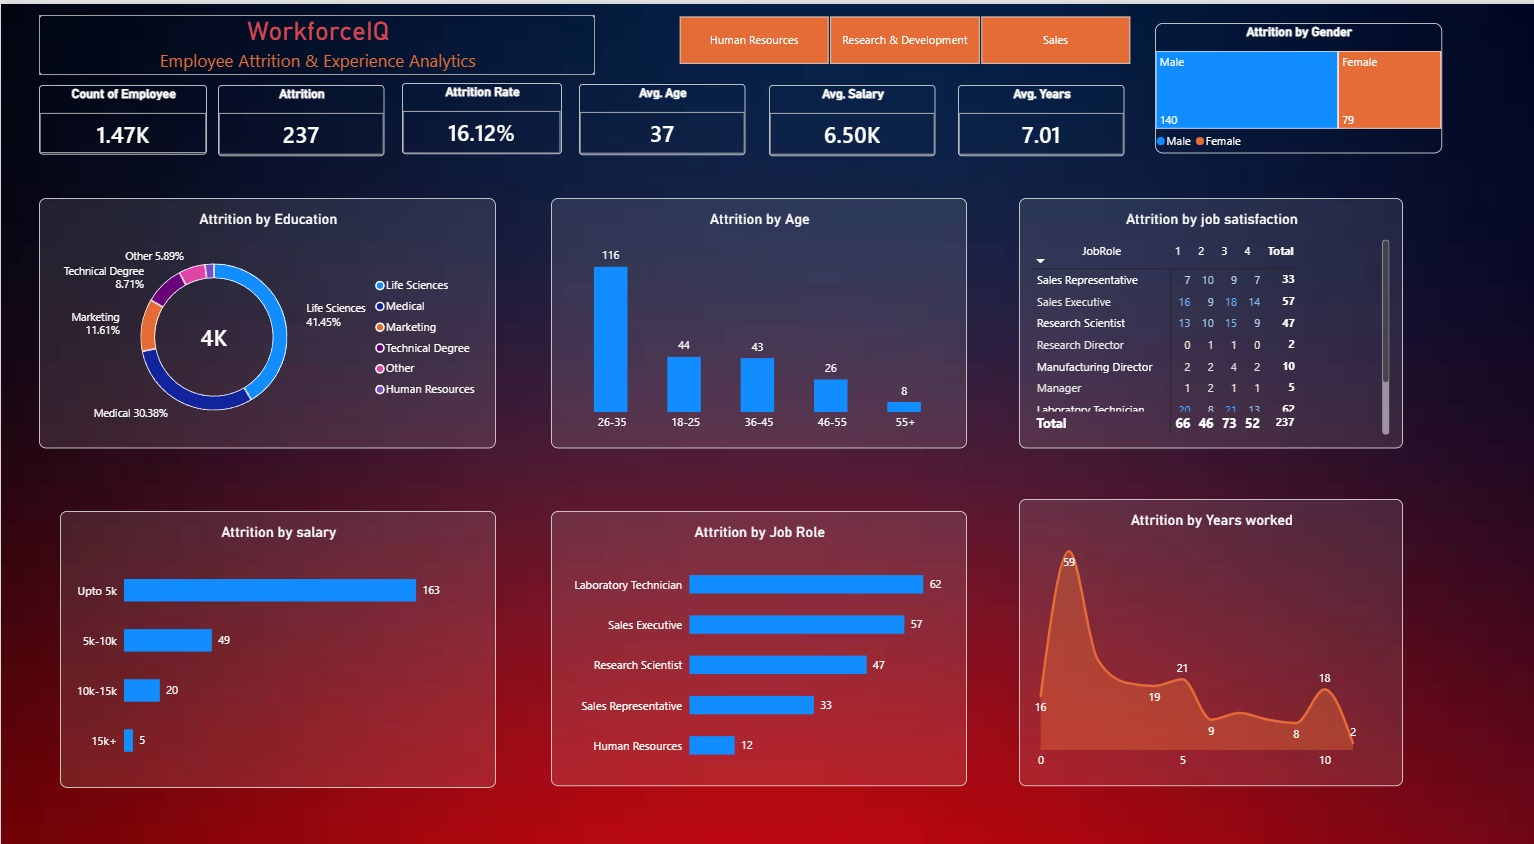

Layout of this report page (visuals, bound fields, positions):
{"tool":"powerbi","page":{"name":"Attrition overview","canvas":[1920,1080],"ordinal":0},"visuals":[{"type":"cardVisual","title":"Count of Employee","fields":{"Data":["CountNonNull(HR_Analytics.EmpID)"]},"box":[47,101.4,210.3,86.6],"z":0},{"type":"cardVisual","title":"Attrition Rate","fields":{"Data":["HR_Analytics.Attritionrate"]},"box":[501.3,99.2,199.8,89.1],"z":2},{"type":"cardVisual","title":"Avg. Age","fields":{"Data":["Avg(HR_Analytics.Age)"]},"box":[723,100,208.2,88.5],"z":3},{"type":"cardVisual","title":"Avg. Salary","fields":{"Data":["Avg(HR_Analytics.MonthlyIncome)"]},"box":[960,101.7,208.2,88.5],"z":4},{"type":"cardVisual","title":"Avg. Years","fields":{"Data":["Avg(HR_Analytics.YearsAtCompany)"]},"box":[1196.7,101.7,208.2,88.5],"z":5},{"type":"cardVisual","title":"Attrition","fields":{"Data":["Sum(HR_Analytics.Attrition_count)"]},"box":[271.7,101.7,208.2,88.5],"z":6},{"type":"donutChart","title":"Attrition by Education","fields":{"Category":["HR_Analytics.EducationField"],"Y":["Sum(HR_Analytics.Education)"]},"box":[47.5,242.5,571.2,312.5],"z":7},{"type":"columnChart","title":"Attrition by Age ","fields":{"Category":["HR_Analytics.AgeGroup"],"Y":["Sum(HR_Analytics.Attrition_count)"]},"box":[687.5,242.5,520,312.5],"z":8},{"type":"pivotTable","title":"Attrition by job satisfaction","fields":{"Columns":["HR_Analytics.JobSatisfaction"],"Rows":["HR_Analytics.JobRole"],"Values":["Sum(HR_Analytics.Attrition_count)"]},"box":[1272.5,242.5,480,312.5],"z":9},{"type":"barChart","title":"Attrition by salary","fields":{"Category":["HR_Analytics.SalarySlab"],"Y":["Sum(HR_Analytics.Attrition_count)"]},"box":[73.8,633.8,545,346.2],"z":10},{"type":"barChart","title":"Attrition by Job Role","fields":{"Category":["HR_Analytics.JobRole"],"Y":["Sum(HR_Analytics.Attrition_count)"]},"box":[687.5,633.8,520,343.8],"z":11},{"type":"areaChart","title":"Attrition by Years worked","fields":{"Category":["HR_Analytics.YearsAtCompany"],"Y":["Sum(HR_Analytics.Attrition_count)"]},"box":[1272.5,618.8,480,358.8],"z":12},{"type":"treemap","title":"Attrition by Gender","fields":{"Group":["HR_Analytics.Gender"],"Values":["Sum(HR_Analytics.Attrition_count)"]},"box":[1442.9,24.3,358.6,162.9],"z":13},{"type":"slicer","fields":{"Values":["HR_Analytics.Department"]},"box":[827.1,14.3,602.9,62.9],"z":14},{"type":"textbox","title":"WorkforceIQ","box":[47.5,13.8,695,75],"z":16}]}

Visuals, with their boxes in screenshot pixels (x1, y1, x2, y2), scaled from the page's 1920x1080 canvas onto the 1534x844 screenshot:
"Count of Employee" cardVisual: 38:79:206:147
"Attrition Rate" cardVisual: 401:78:560:147
"Avg. Age" cardVisual: 578:78:744:147
"Avg. Salary" cardVisual: 767:79:933:149
"Avg. Years" cardVisual: 956:79:1122:149
"Attrition" cardVisual: 217:79:383:149
"Attrition by Education" donutChart: 38:190:494:434
"Attrition by Age " columnChart: 549:190:965:434
"Attrition by job satisfaction" pivotTable: 1017:190:1400:434
"Attrition by salary" barChart: 59:495:494:766
"Attrition by Job Role" barChart: 549:495:965:764
"Attrition by Years worked" areaChart: 1017:484:1400:764
"Attrition by Gender" treemap: 1153:19:1439:146
slicer - HR_Analytics.Department: 661:11:1143:60
"WorkforceIQ" textbox: 38:11:593:69
